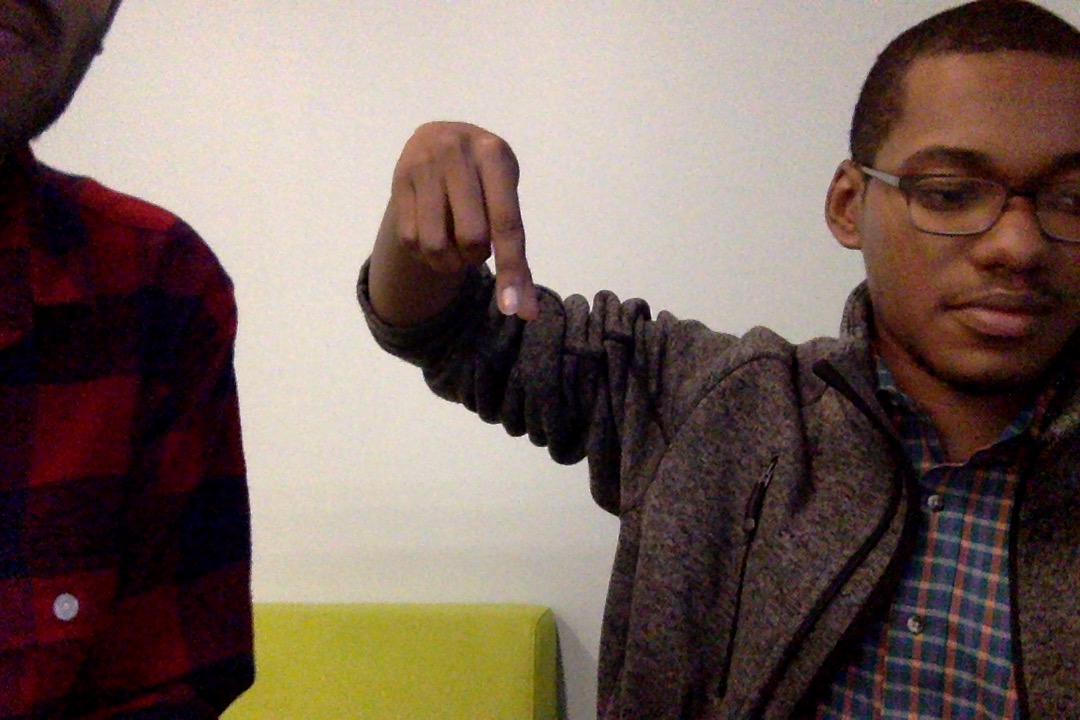q: (356, 108, 554, 342)
